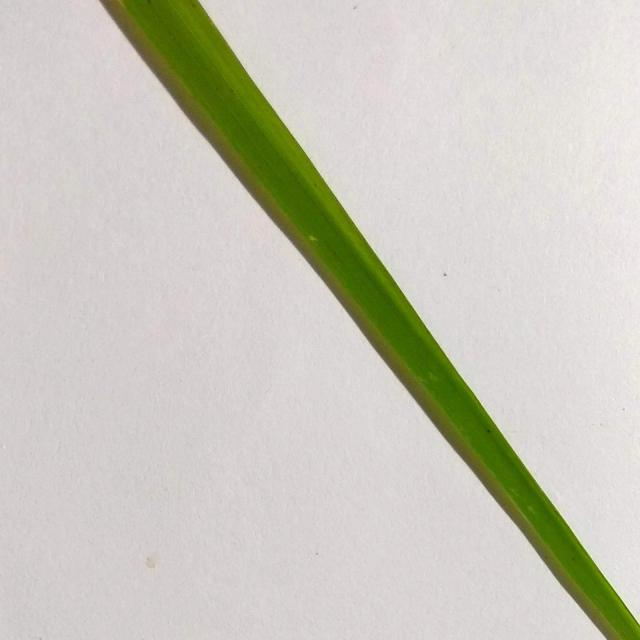healthy: (90, 0, 640, 640)
